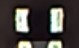COMP: (10, 5, 68, 35)
GAP: (15, 23, 62, 48)
